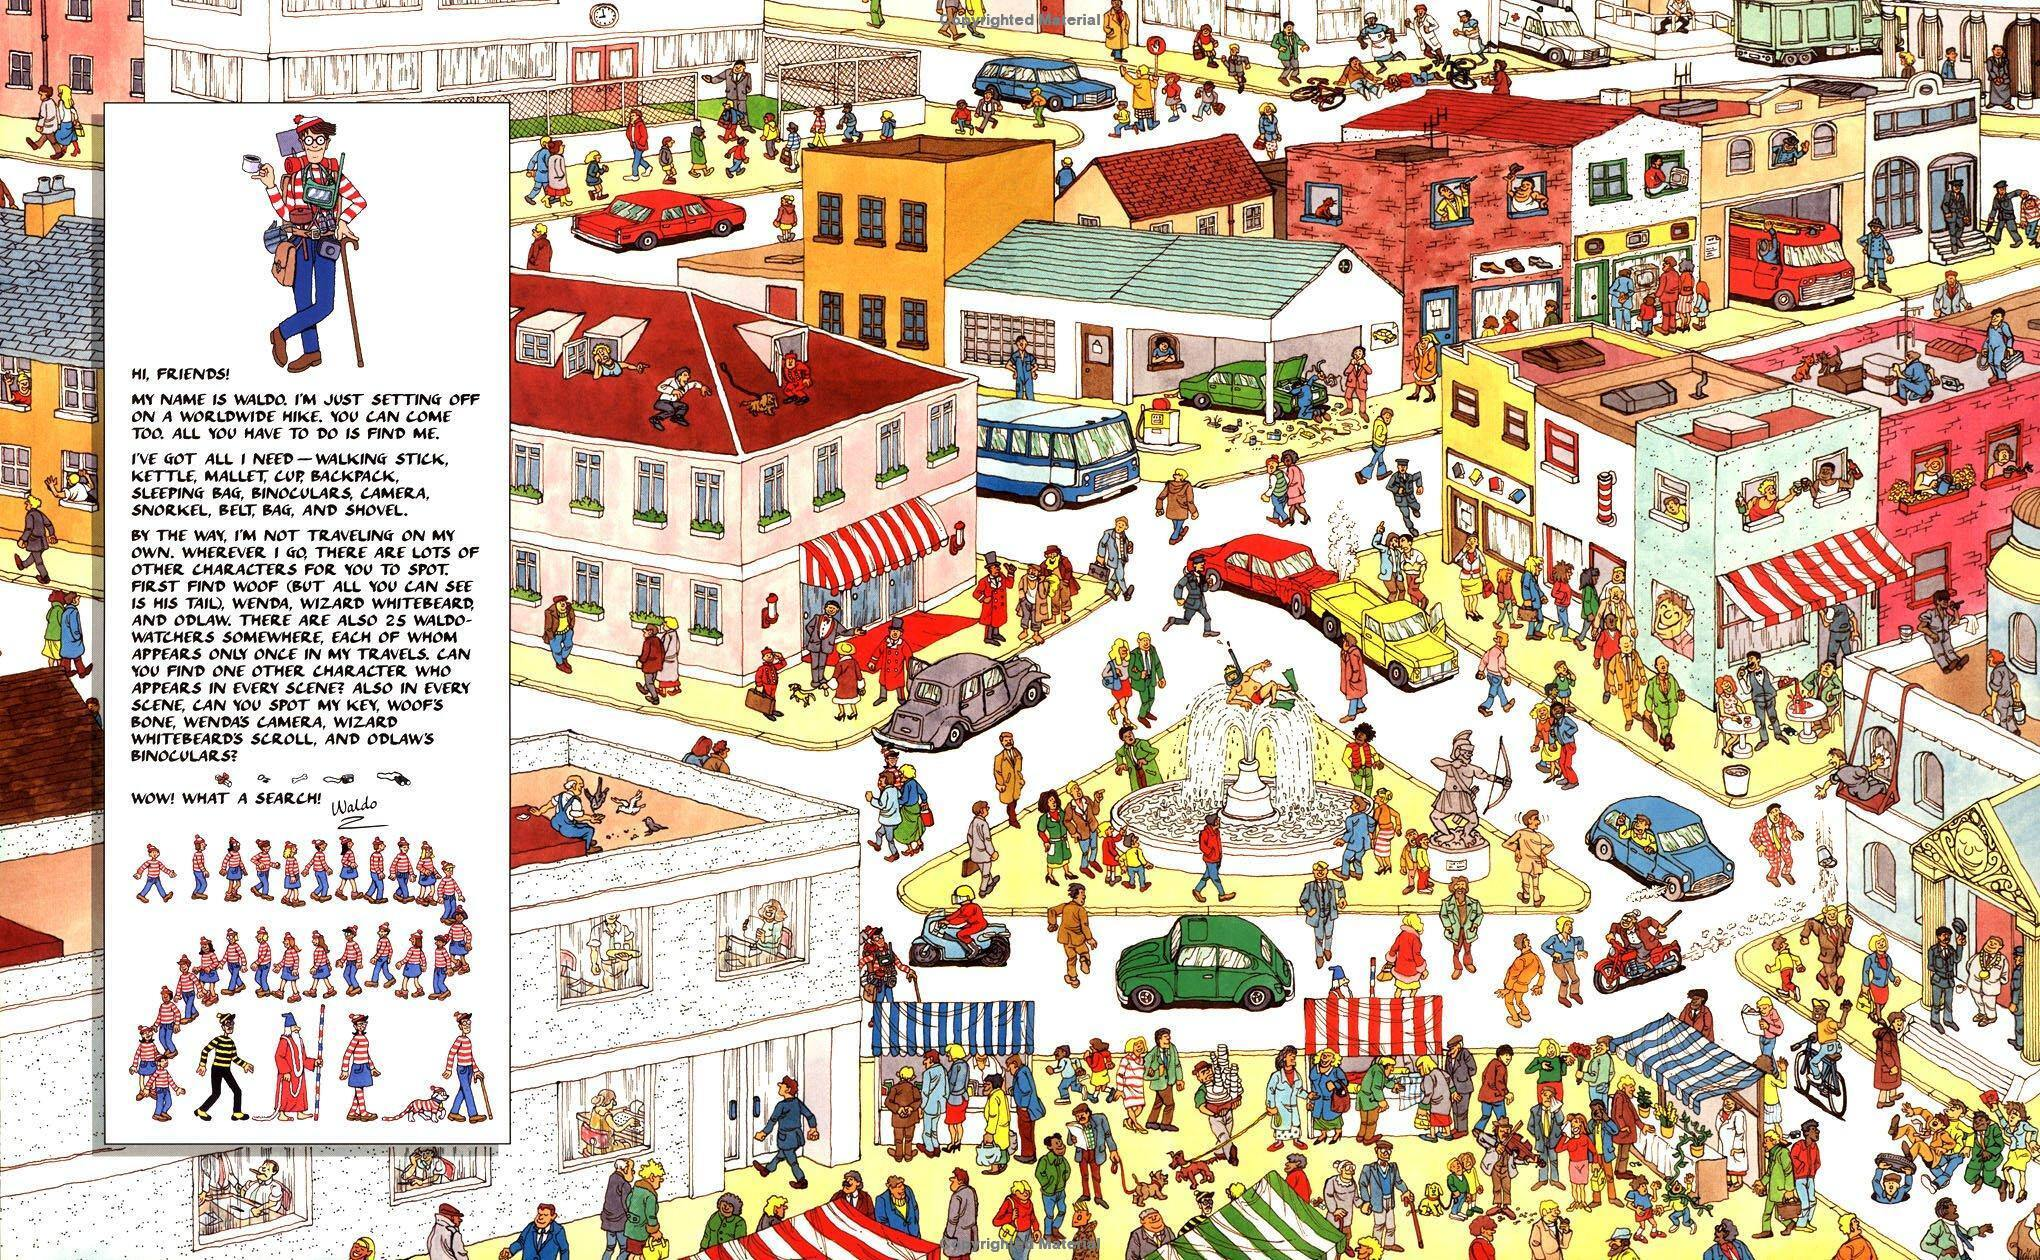Waldo: (243, 117, 372, 380), (866, 924, 906, 999)
